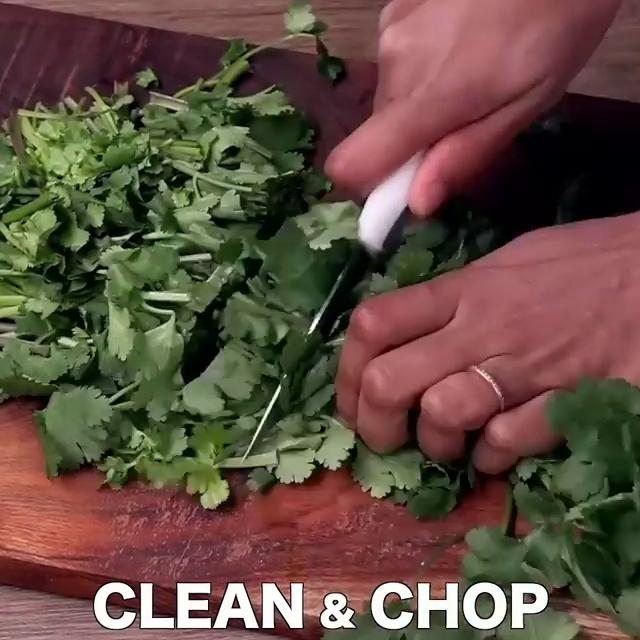cilantro: (0, 64, 263, 432), (547, 408, 640, 640)
